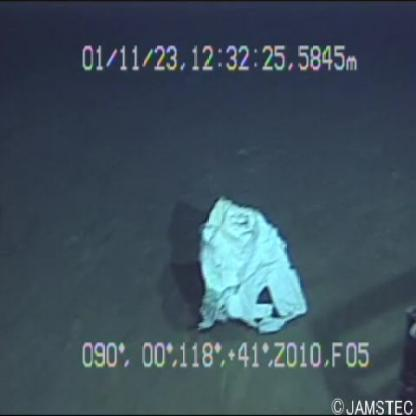Rác: (181, 192, 311, 336)
